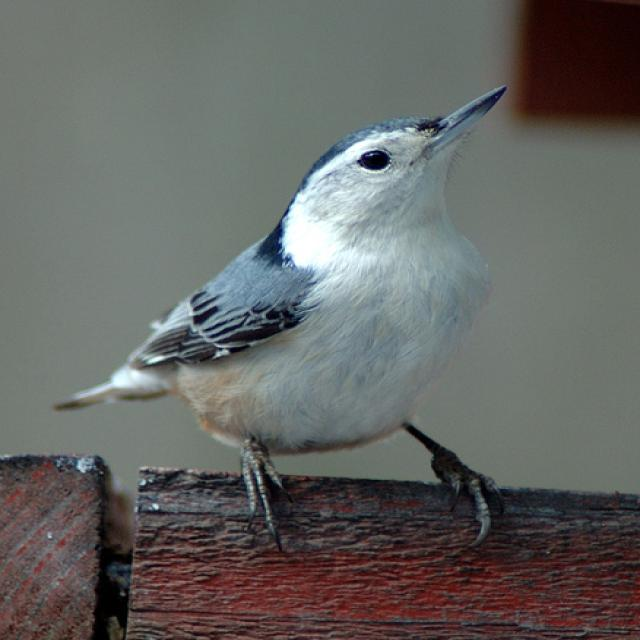bird: (69, 81, 513, 539)
